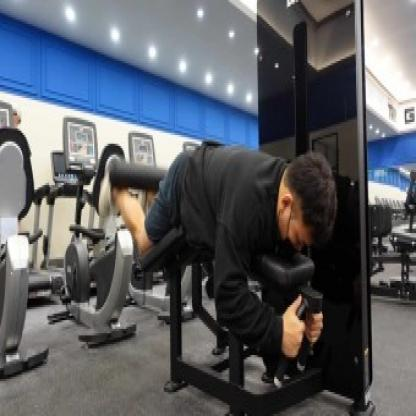reg curl machine: (91, 0, 378, 416)
